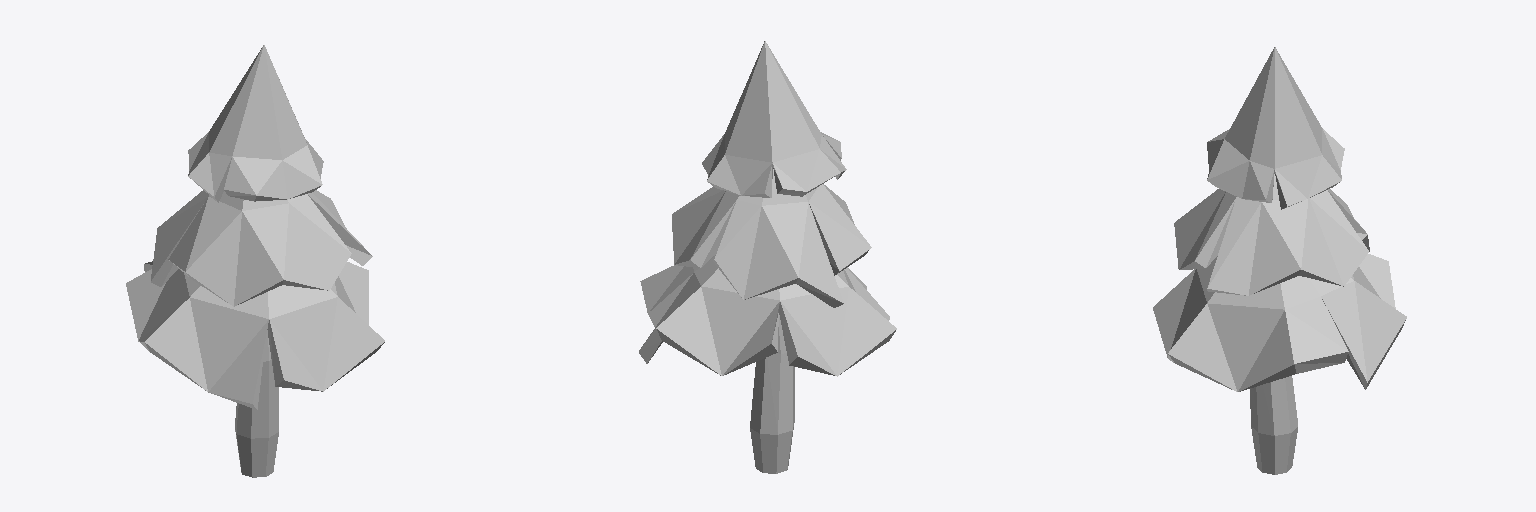
The model's file is tree_pine_orange_small.obj.
3 views of the same model, side by side, from view 1: azimuth 30°, elevation 25°; view 2: azimuth 150°, elevation 25°; view 3: azimuth 270°, elevation 25° (orthographic).
Parts seen in each view (by area): view 1: tree_pine_orange_small_Cube.076; view 2: tree_pine_orange_small_Cube.076; view 3: tree_pine_orange_small_Cube.076.
Boxes of the visible parts, box(x1,y1,x2,y2) form: tree_pine_orange_small_Cube.076: box(126, 45, 384, 477); tree_pine_orange_small_Cube.076: box(639, 41, 896, 473); tree_pine_orange_small_Cube.076: box(1153, 47, 1406, 474).
Size of the model in its own units: 2.4 by 4.04 by 2.2.